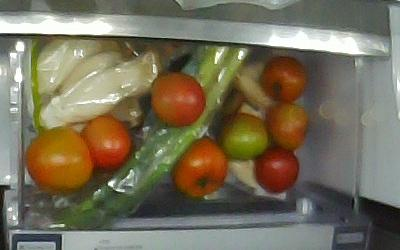tomato: (23, 124, 93, 191), (172, 136, 228, 197), (149, 70, 205, 127), (79, 112, 132, 169), (214, 112, 270, 159), (258, 54, 307, 102), (263, 101, 311, 150), (253, 145, 299, 194)
